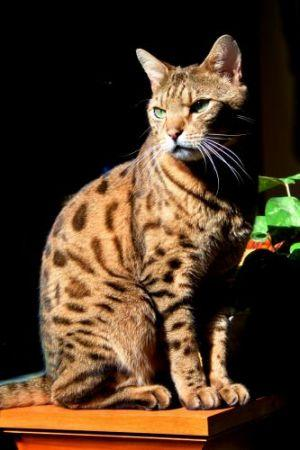bengal: (120, 34, 269, 179)
